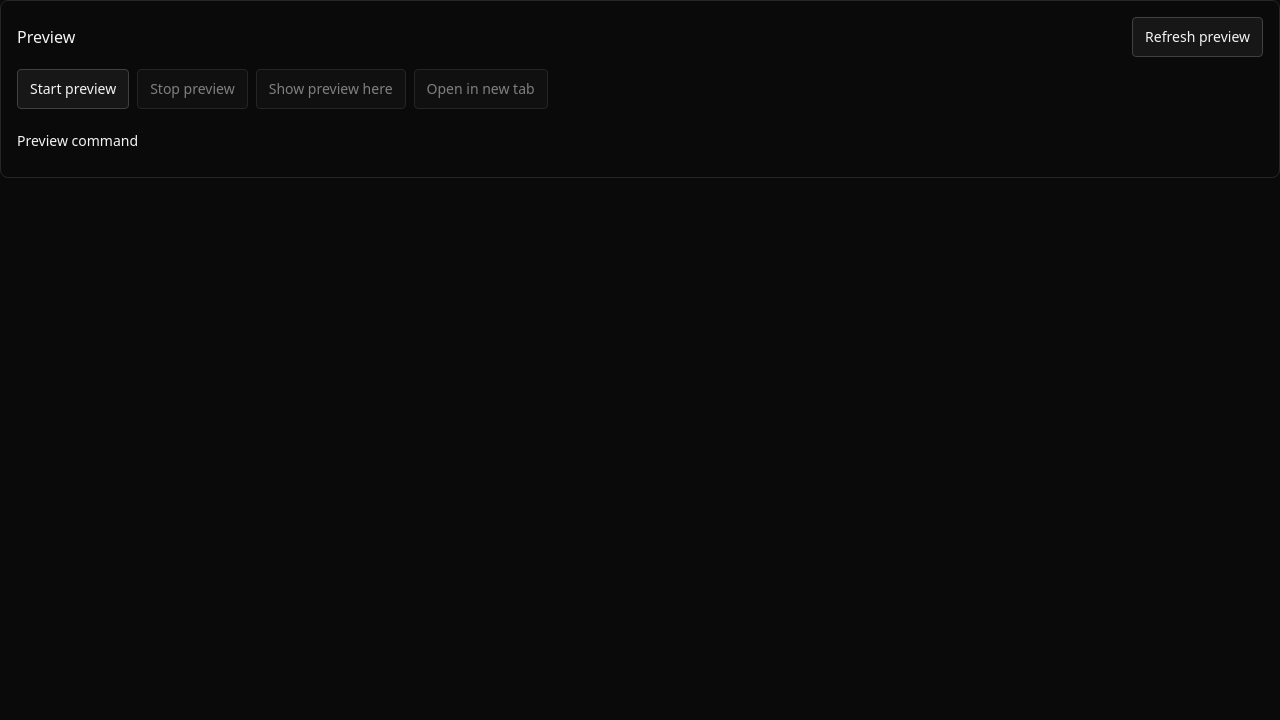
Test: preserves the command draft on validation and stale-save errors, then saves an explicitly reloaded version
The width and height of the screenshot is (1280, 720).
Click the heading "Preview command".
click(78, 140)  # box top-left (17, 131), bottom-right (138, 150)
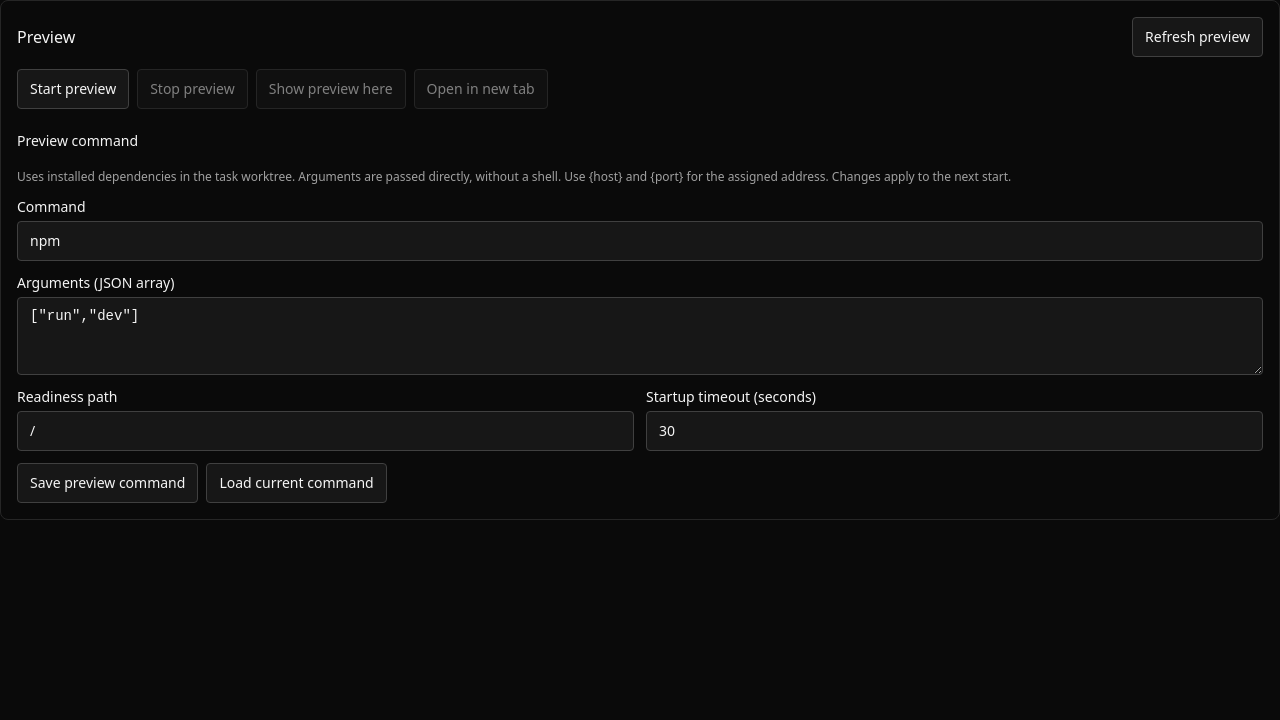
Replace the text in the text box labelled "Arguments (JSON array)" with "invalid JSON" at [640, 336], box top-left (17, 297), bottom-right (1263, 375)
Click the button "Save preview command".
click(108, 483)  # box top-left (17, 463), bottom-right (198, 503)
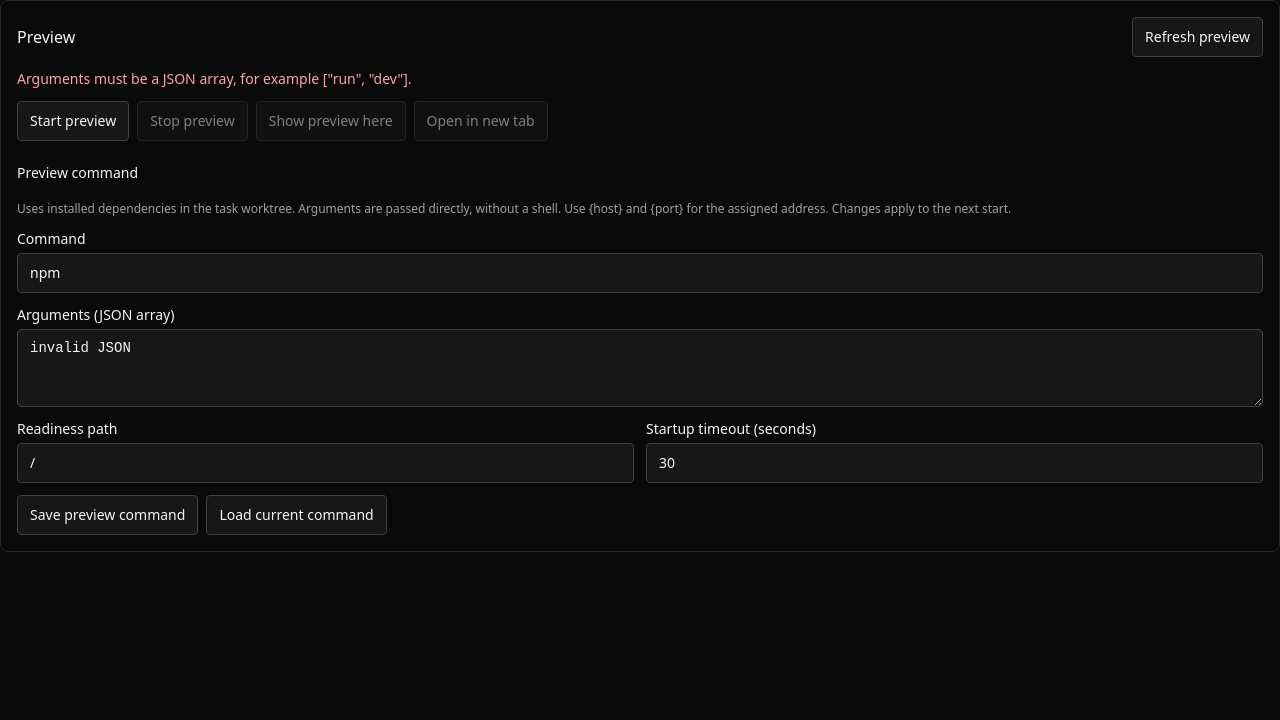
Result: the message shows "JSON array" at top-left (17, 69), bottom-right (412, 88)
Click the button "Load current command".
click(297, 515)  # box top-left (206, 495), bottom-right (387, 535)
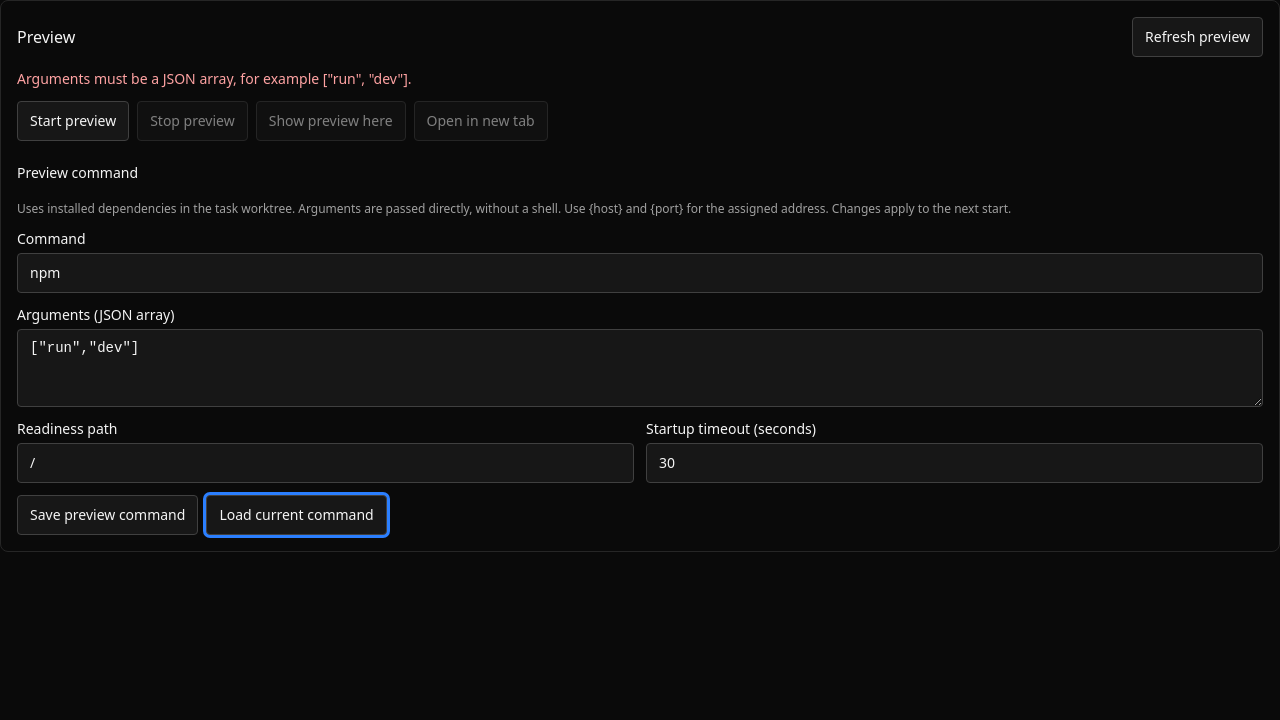
Replace the text in the field labelled "Command" with "pnpm" at [640, 273], box top-left (17, 253), bottom-right (1263, 293)
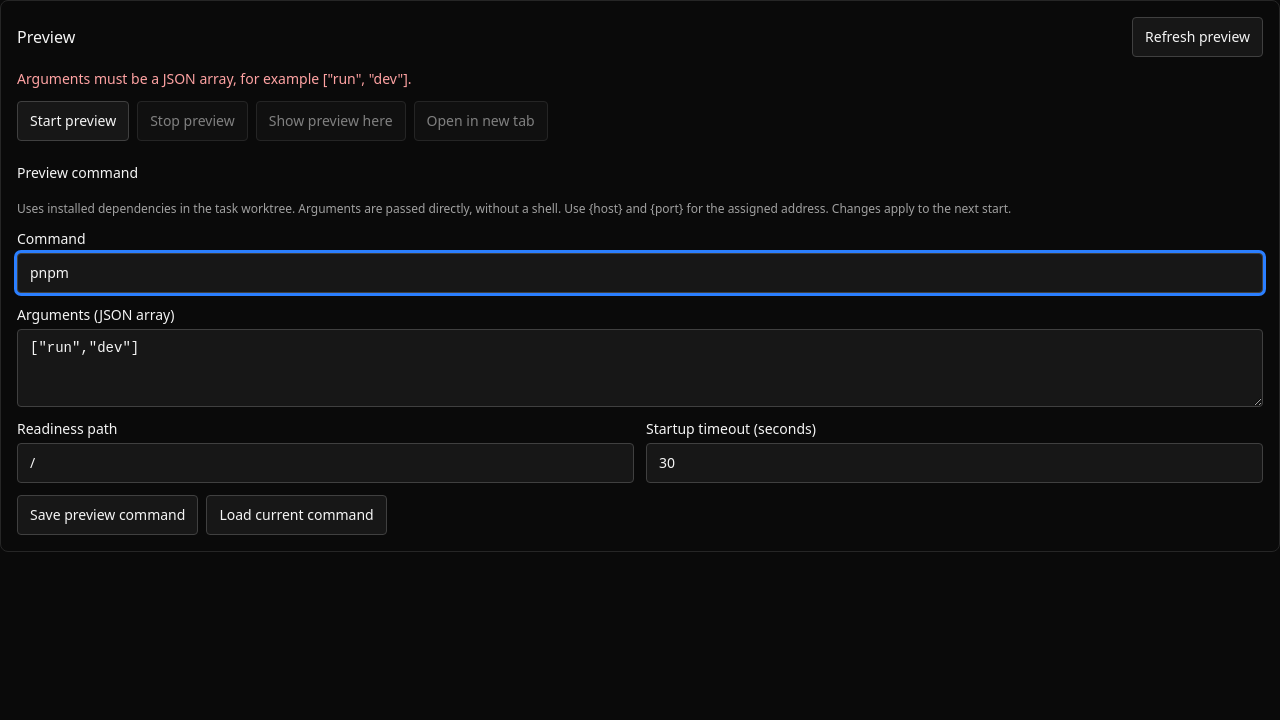
Click the button "Save preview command".
click(108, 515)  # box top-left (17, 495), bottom-right (198, 535)
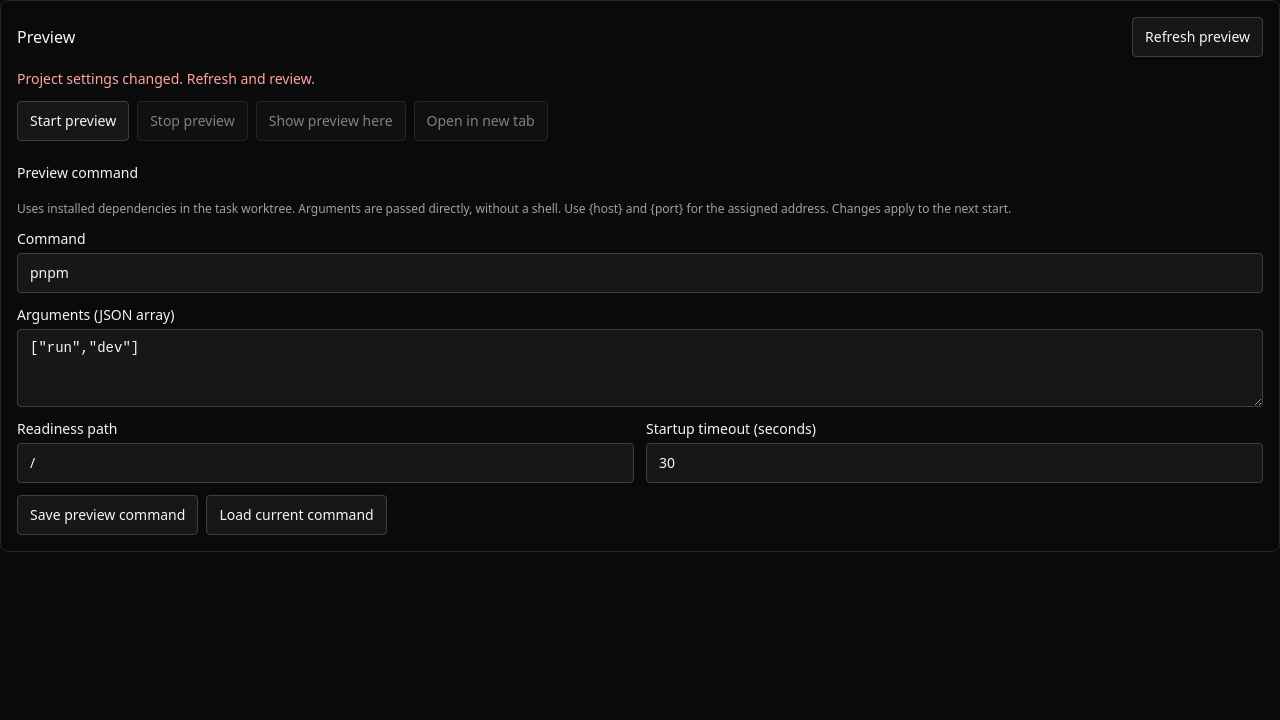
Result: the message shows "Project settings changed" at top-left (17, 69), bottom-right (315, 88)
Click the button "Save preview command".
click(108, 515)  # box top-left (17, 495), bottom-right (198, 535)
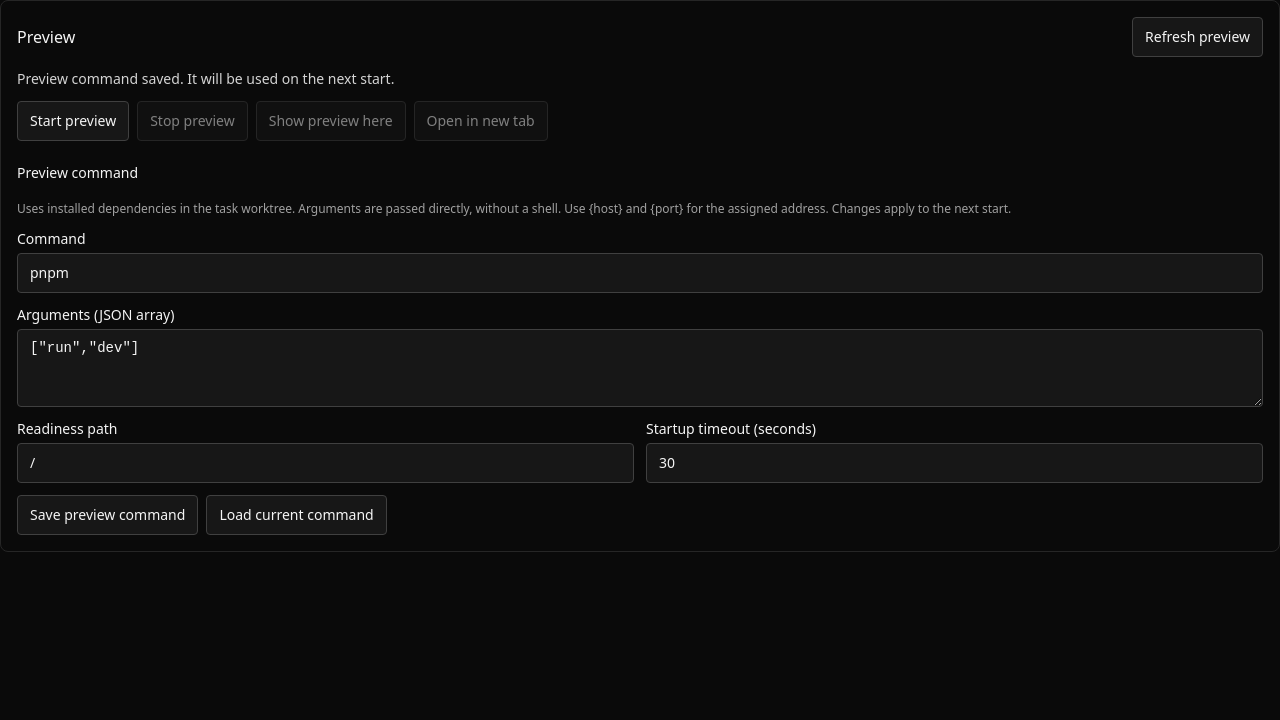
Result: the message shows "Preview command saved" at top-left (17, 69), bottom-right (394, 88)
